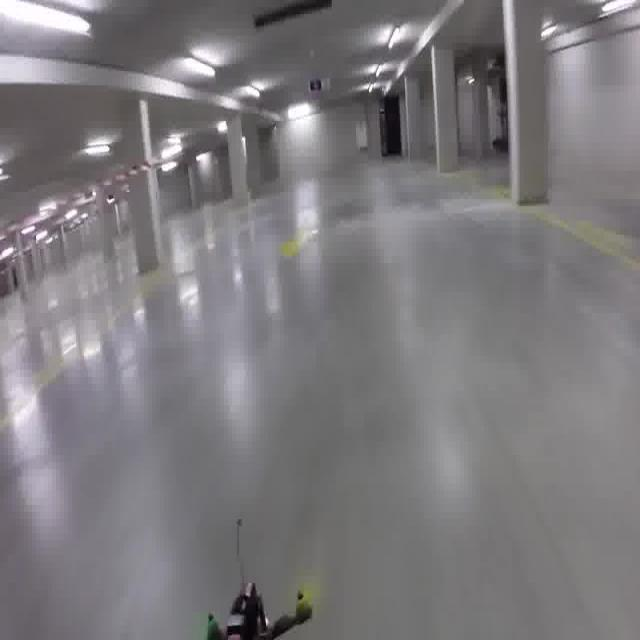drones: (177, 552, 330, 640)
